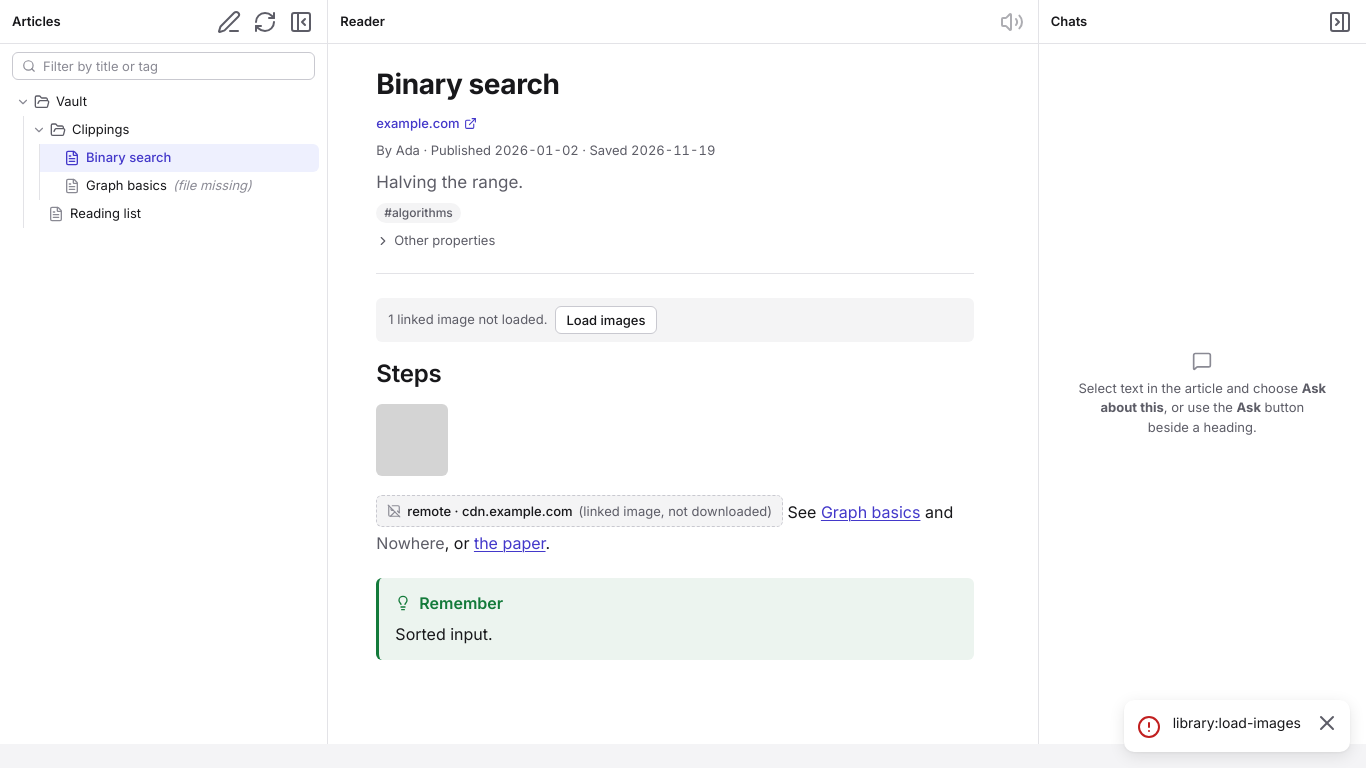
LibraryPage › folds folders with chevron buttons and marks the open article (T32)
Click the button "Clippings".
click(101, 129)  # box [24, 116, 319, 144]
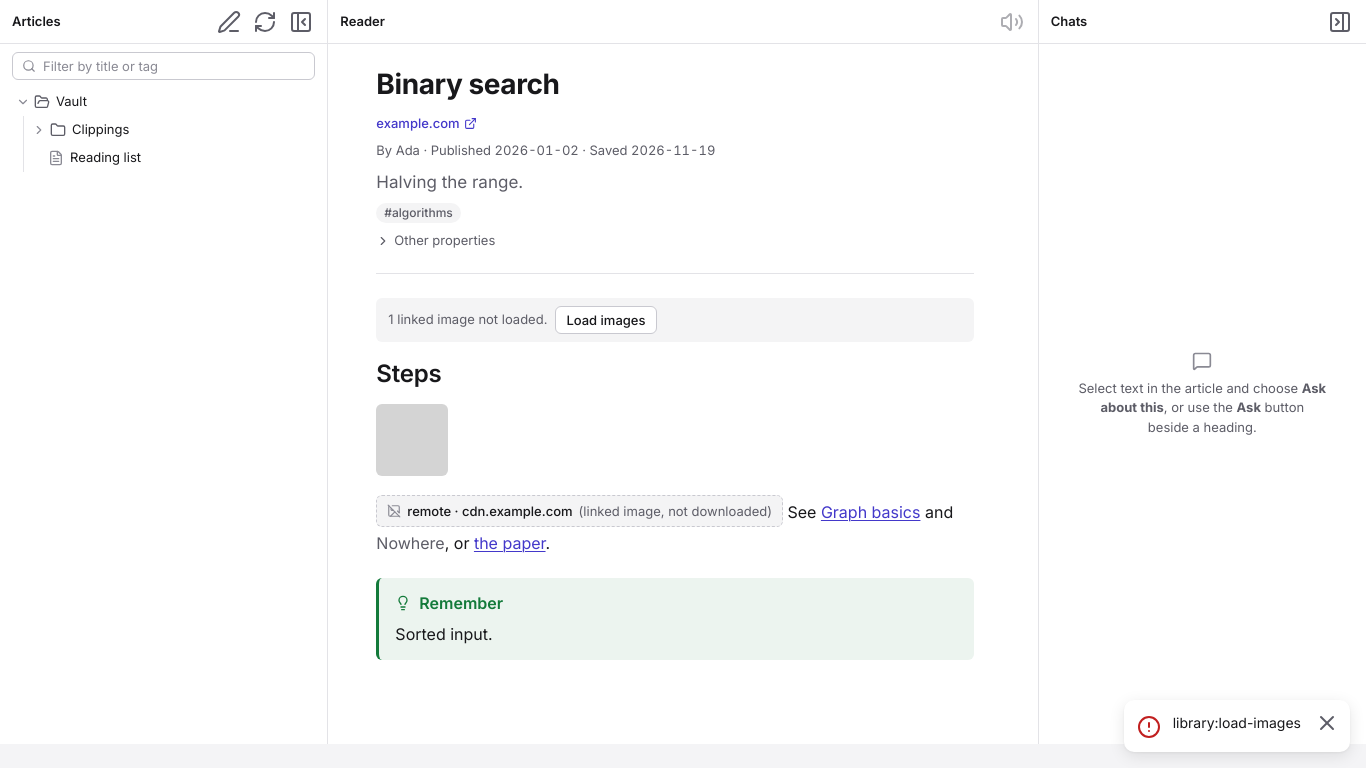
Check: the text "Reading list" is shown, box [70, 148, 141, 168]
Check: the button "Clippings" is collapsed, box [24, 116, 319, 144]
Type "binary" into the search field named "Filter articles".
click(164, 66); type("binary")  # box [12, 52, 315, 80]
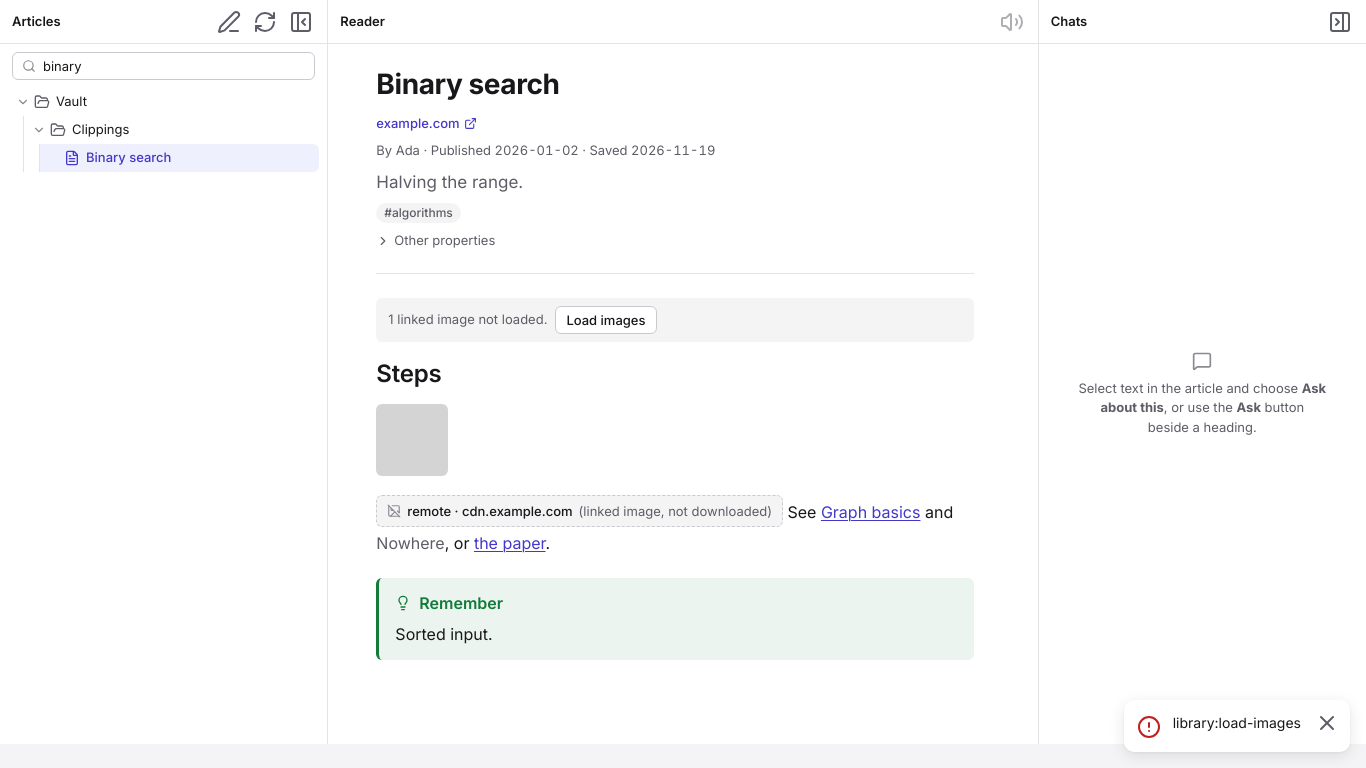
Check: the text "Binary search" is shown, box [86, 148, 171, 168]
Clear the search field named "Filter articles" at (164,66), box [12, 52, 315, 80]
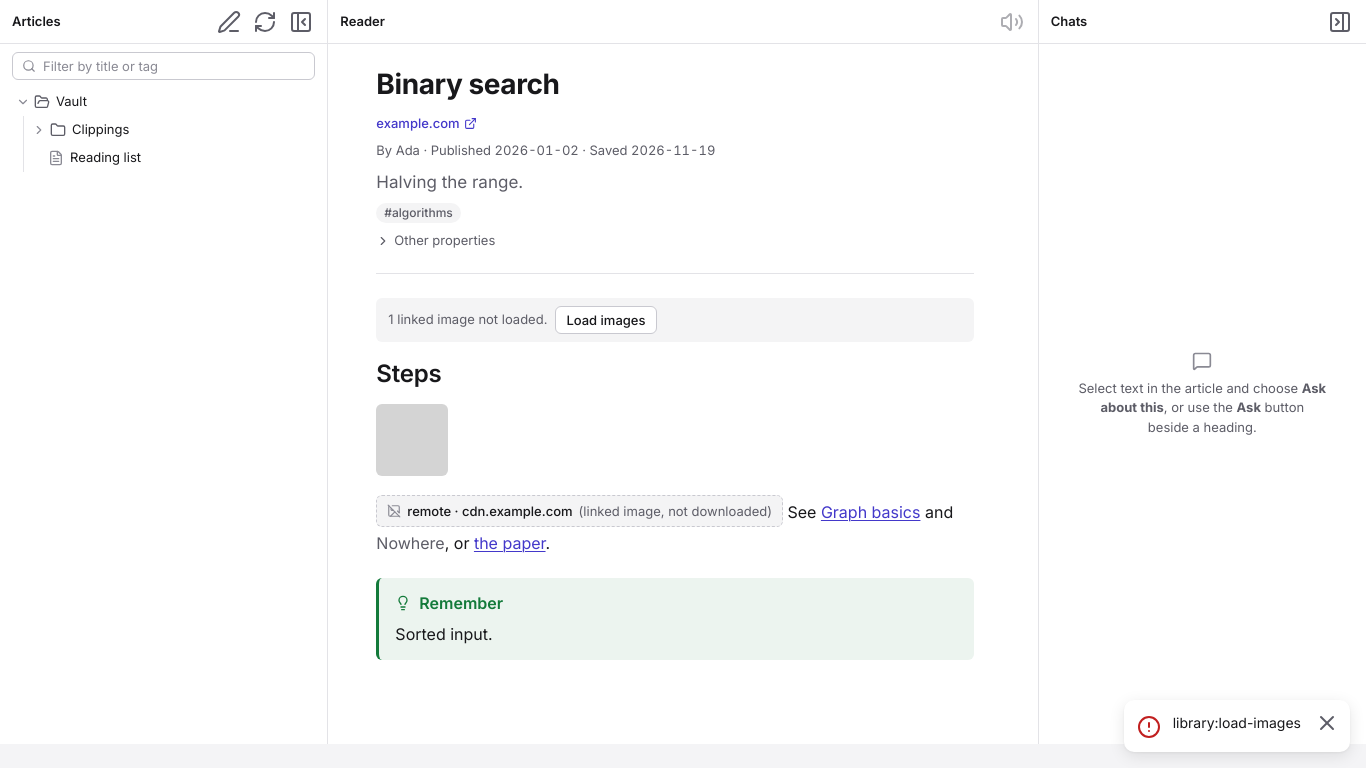
Click the button "Clippings".
click(101, 129)  # box [24, 116, 319, 144]
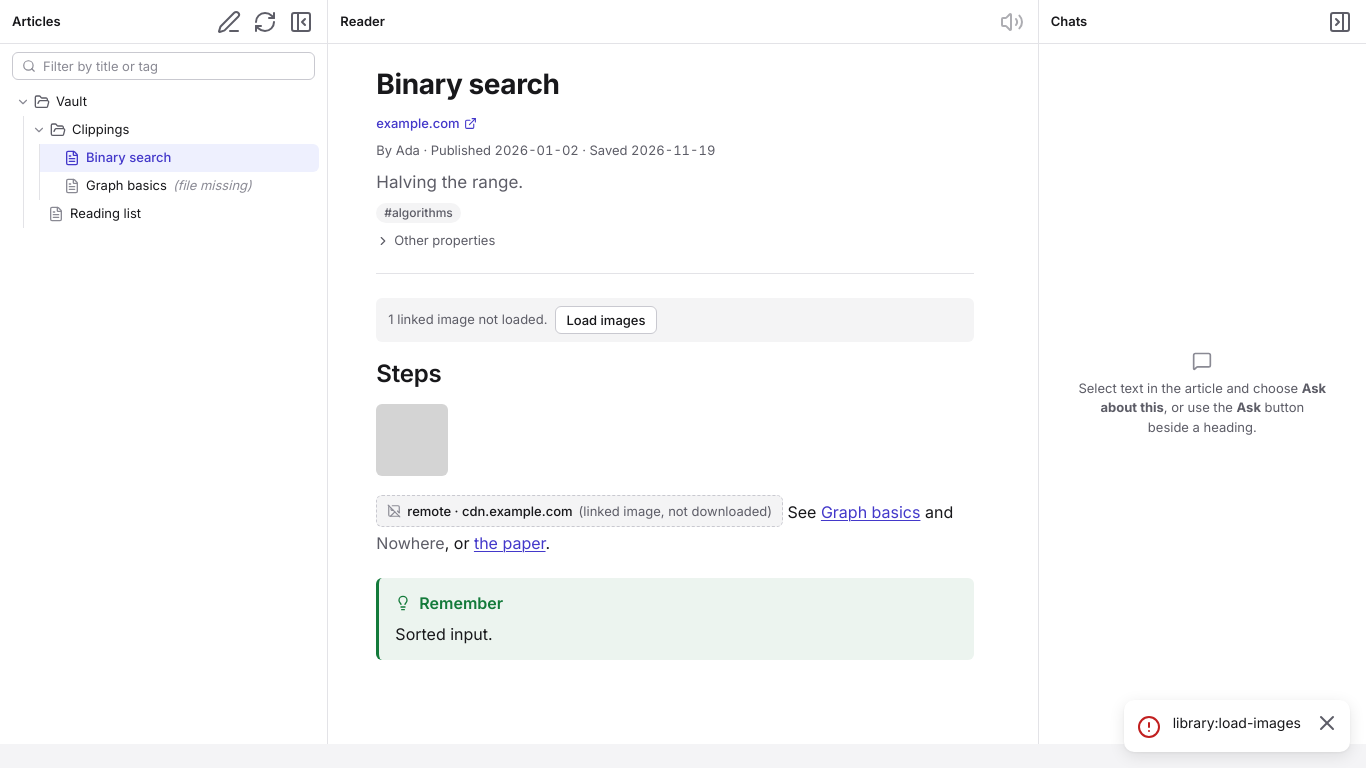
Check: the text "Binary search" is shown, box [86, 148, 171, 168]
